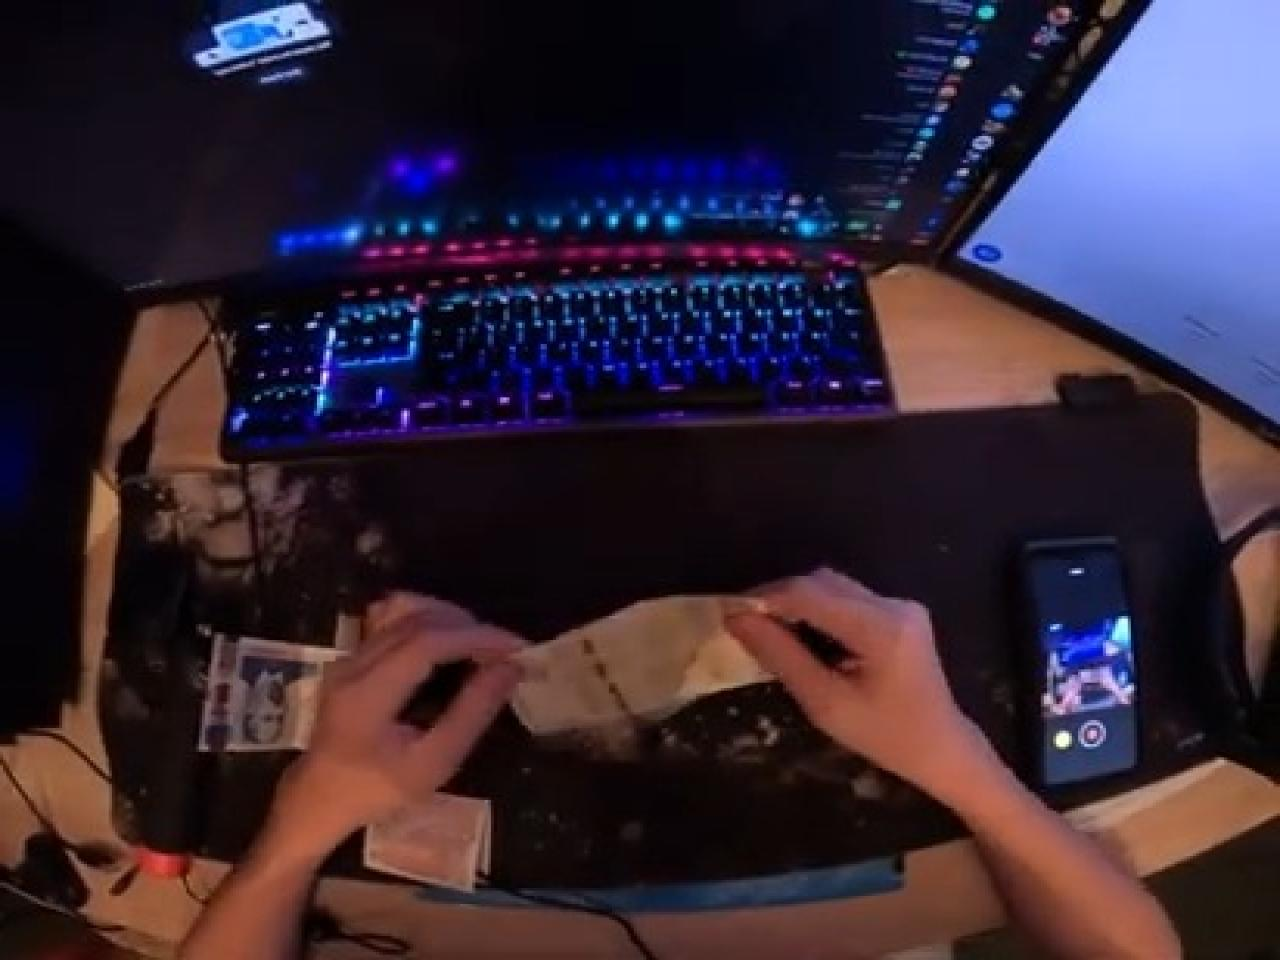50leva: (506, 597, 770, 741)
